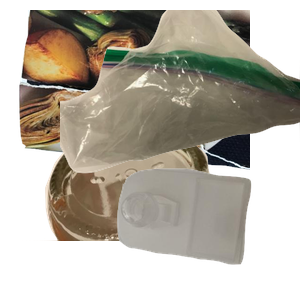glass: (22, 120, 233, 300)
paper: (16, 10, 256, 172)
plastic: (115, 166, 300, 300)
trash: (60, 10, 300, 176)
